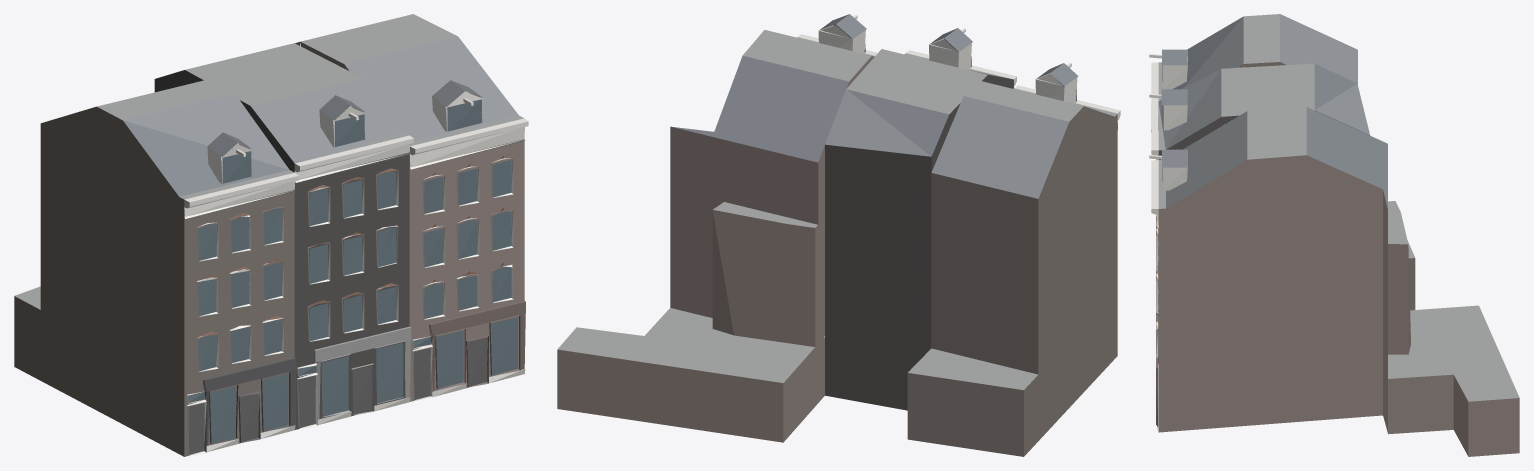
The model's file is chunk-face-wou-12-22-r1.lod2.glb.
3 views of the same model, side by side, from view 1: azimuth 30°, elevation 25°; view 2: azimuth 150°, elevation 25°; view 3: azimuth 270°, elevation 25° (orthographic). The views are drawn at different scales.
Parts seen in each view (by area): view 1: lod2; view 2: lod2; view 3: lod2.
Part boxes in pixels (<box>): lod2: <box>14,14,528,456</box>; lod2: <box>557,14,1120,456</box>; lod2: <box>1149,14,1519,456</box>.
Bounding box in the file's own units: 23.87 × 16.27 × 20.25.
